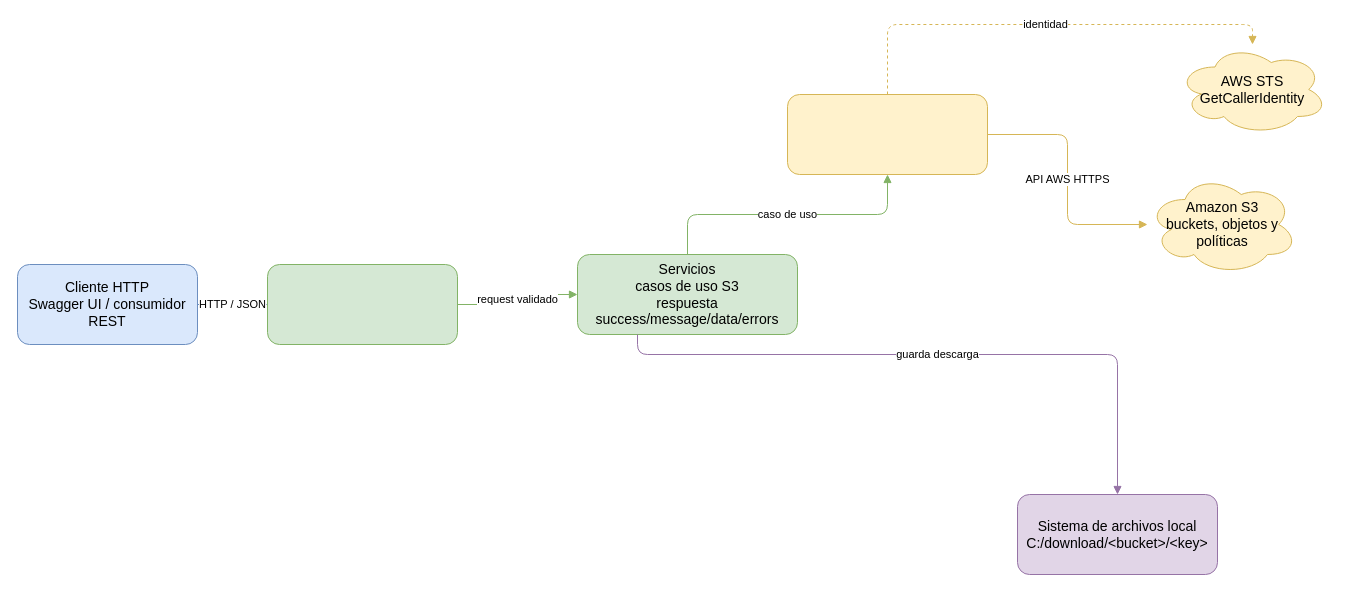
This 1345x592 diagram has some shape labels left out. The box of each missing label's shape, as (x1, y1, x2, y2) in pixels:
API / Rutas FastAPI validación y HTTP: (266, 264, 458, 344)
Repositorio S3 operaciones boto3 paginación y lotes: (786, 94, 988, 174)
